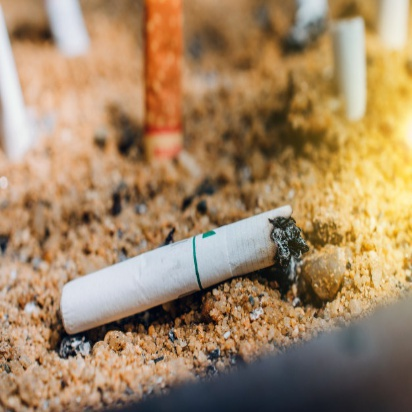cigarette: (60, 204, 302, 340), (144, 1, 186, 164), (1, 15, 36, 167), (332, 15, 369, 126), (44, 1, 96, 60)
